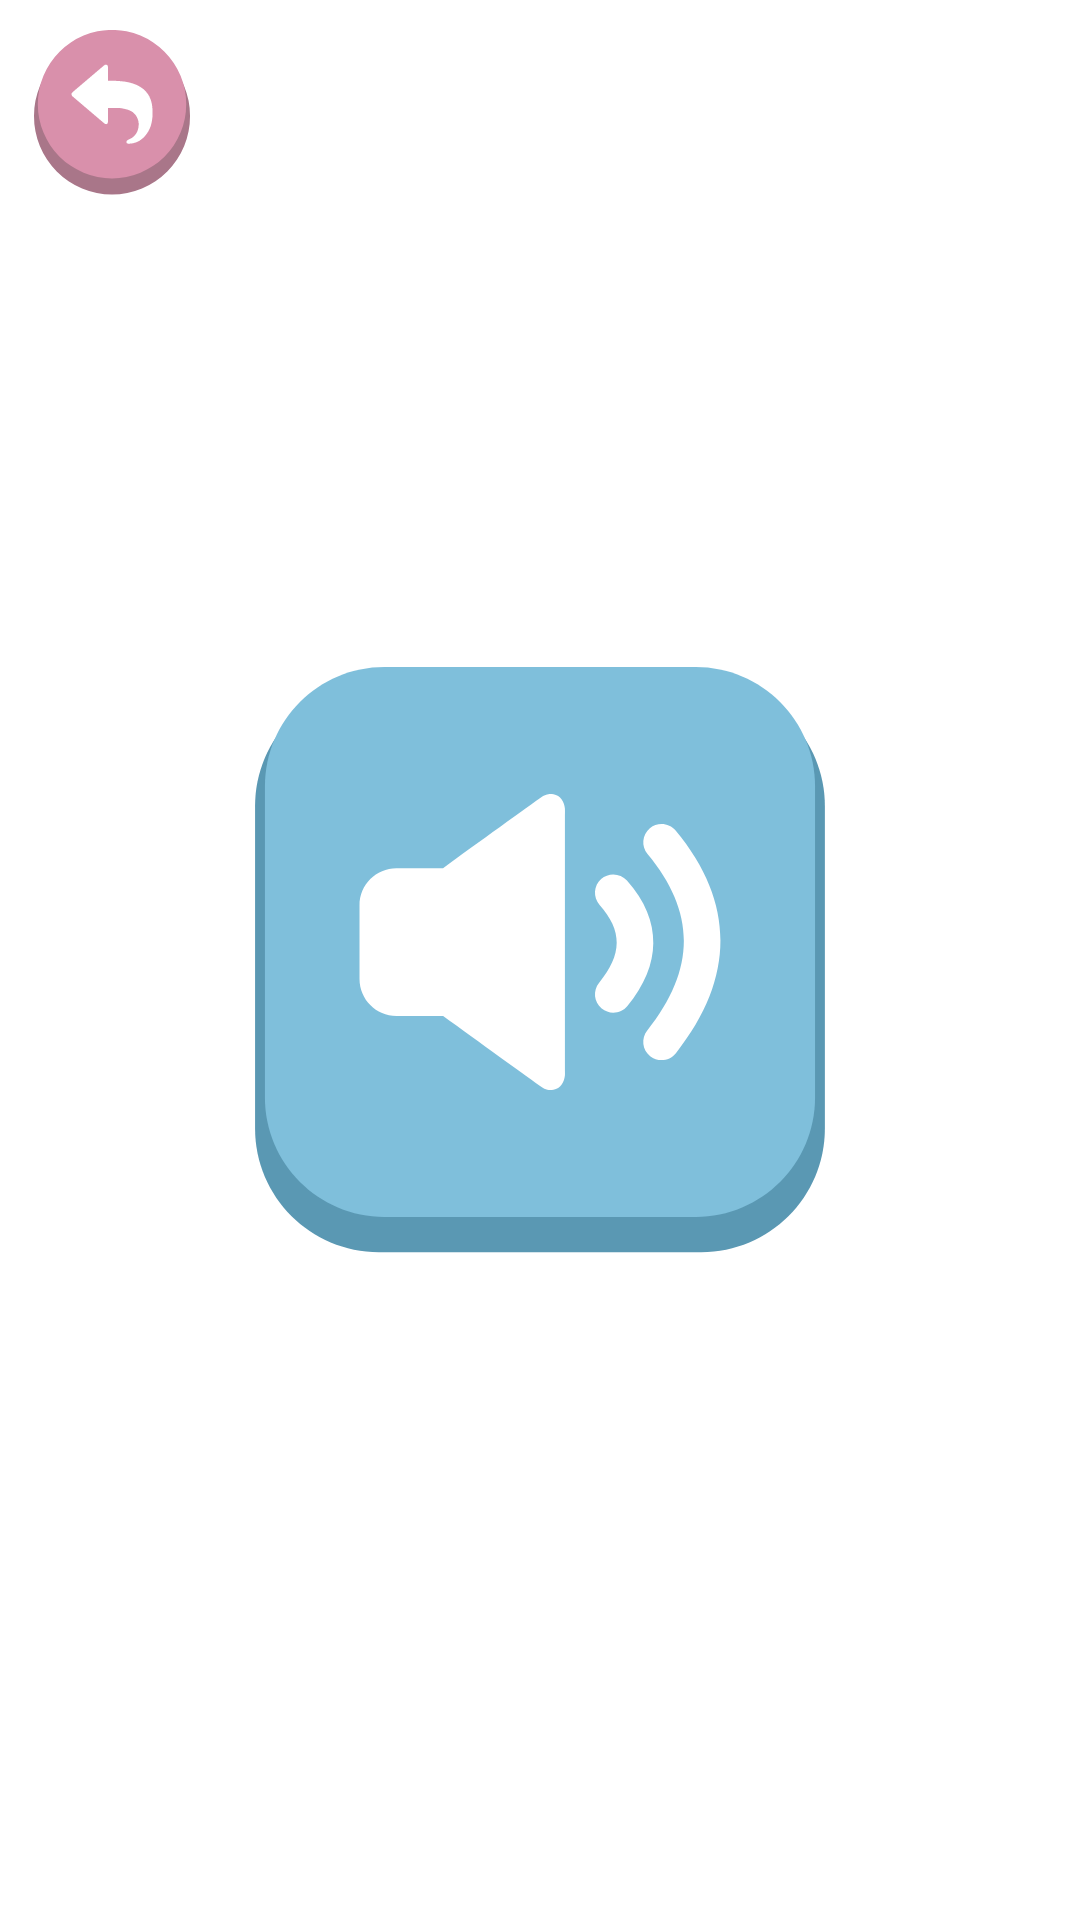

Icon click points for this 1080*1920 phone screenshot, format [x,y]:
back: [112,112]
